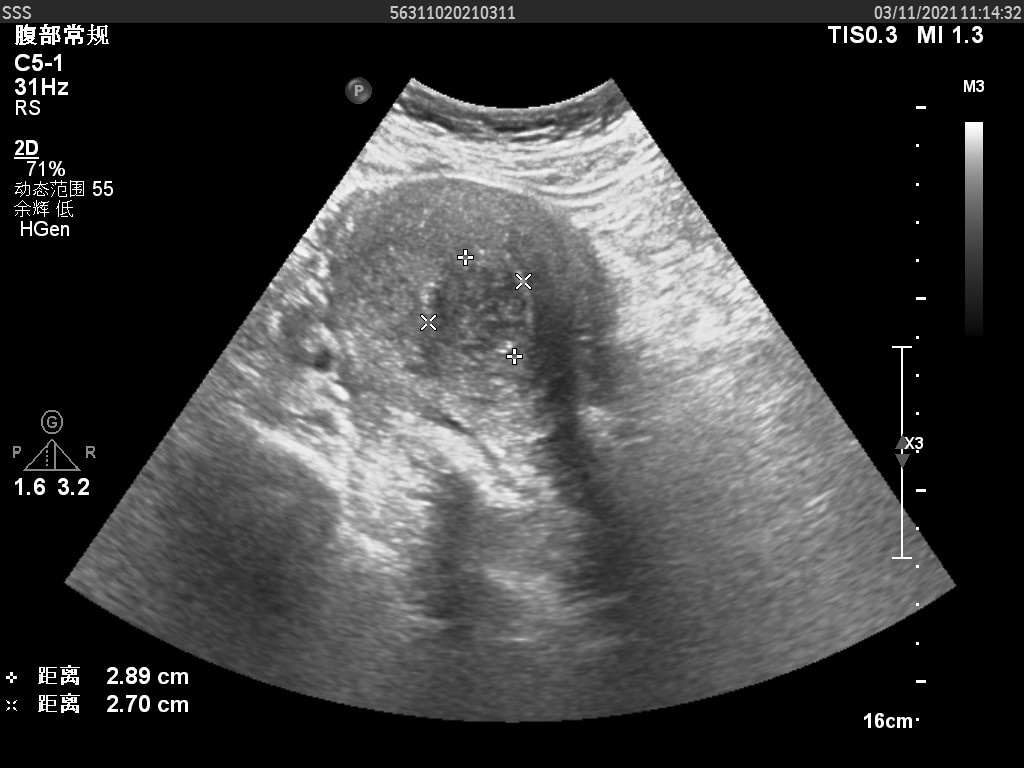肌瘤: (436, 260, 529, 361)
